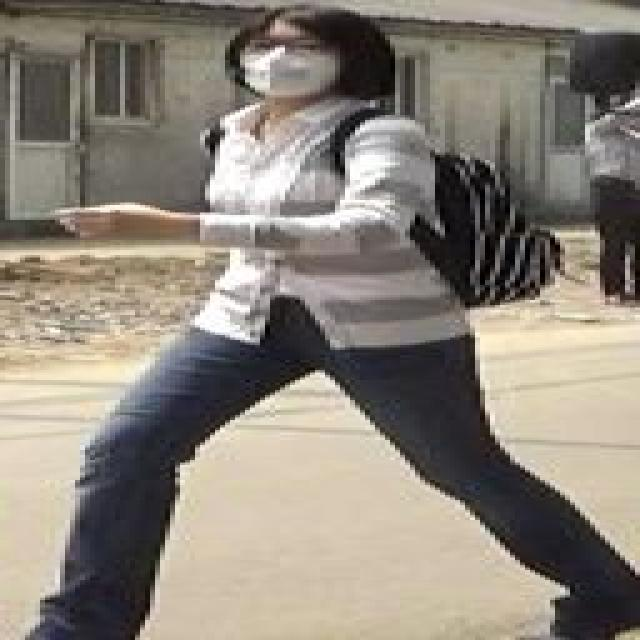adult: (44, 16, 613, 634)
